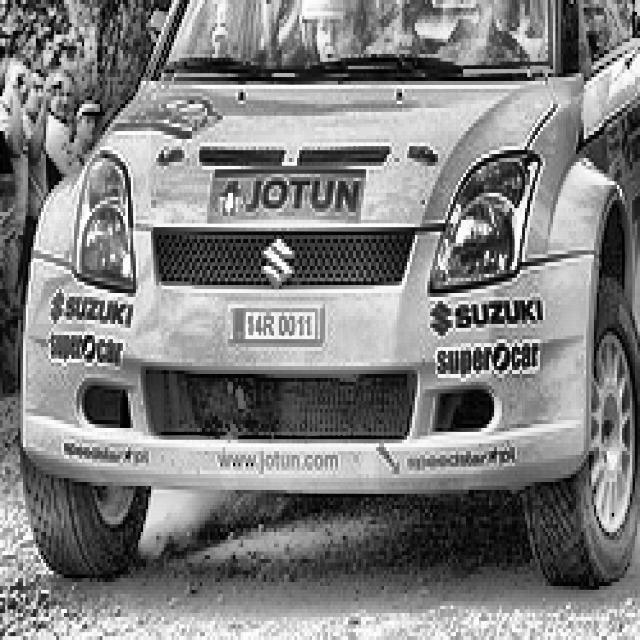light_vehicle: (13, 0, 640, 578)
